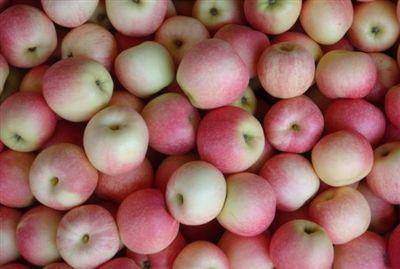apple: (177, 39, 255, 110), (195, 106, 266, 174), (82, 106, 151, 175), (29, 142, 99, 210), (42, 55, 113, 122), (47, 203, 120, 265), (164, 159, 227, 226), (255, 37, 318, 100), (1, 2, 58, 71), (218, 172, 277, 238), (114, 39, 177, 99), (309, 183, 370, 244), (142, 91, 199, 156), (259, 152, 319, 212), (262, 95, 323, 154), (1, 92, 57, 153), (312, 131, 374, 186), (269, 219, 333, 268), (317, 49, 377, 99), (60, 22, 118, 71), (349, 1, 399, 54), (155, 17, 209, 65), (1, 145, 36, 211), (301, 2, 352, 44), (244, 1, 302, 35)
